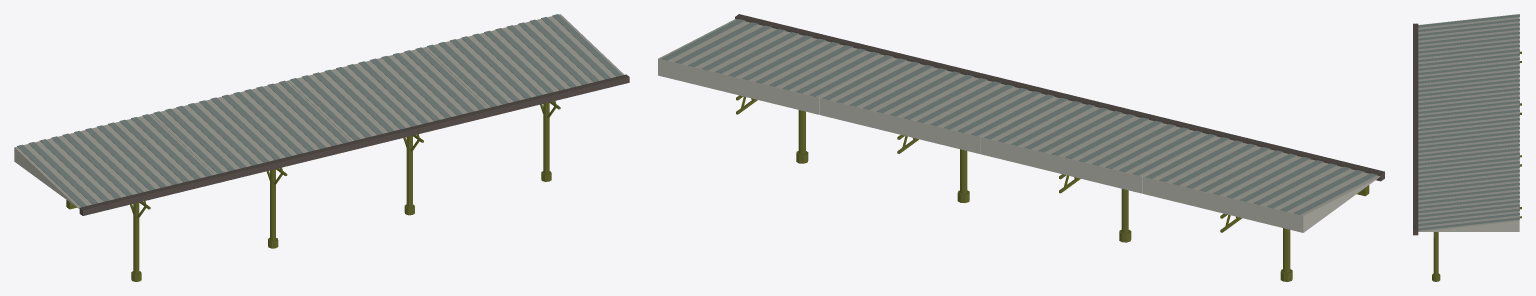
The model's file is SM_marquesina_v4_LOD0.fbx.
3 views of the same model, side by side, from view 1: azimuth 30°, elevation 25°; view 2: azimuth 150°, elevation 25°; view 3: azimuth 270°, elevation 25° (orthographic). The views are drawn at different scales.
Visible parts, largest first — view 1: SM_bloques.marquesina_v4_LOD0; view 2: SM_bloques.marquesina_v4_LOD0; view 3: SM_bloques.marquesina_v4_LOD0.
Part boxes in pixels (box(x1,y1,x2,y2)): SM_bloques.marquesina_v4_LOD0: box(14, 14, 629, 281); SM_bloques.marquesina_v4_LOD0: box(658, 14, 1384, 281); SM_bloques.marquesina_v4_LOD0: box(1413, 14, 1521, 281).
Bounding box in the file's own units: 24 × 4.63 × 5.32.
